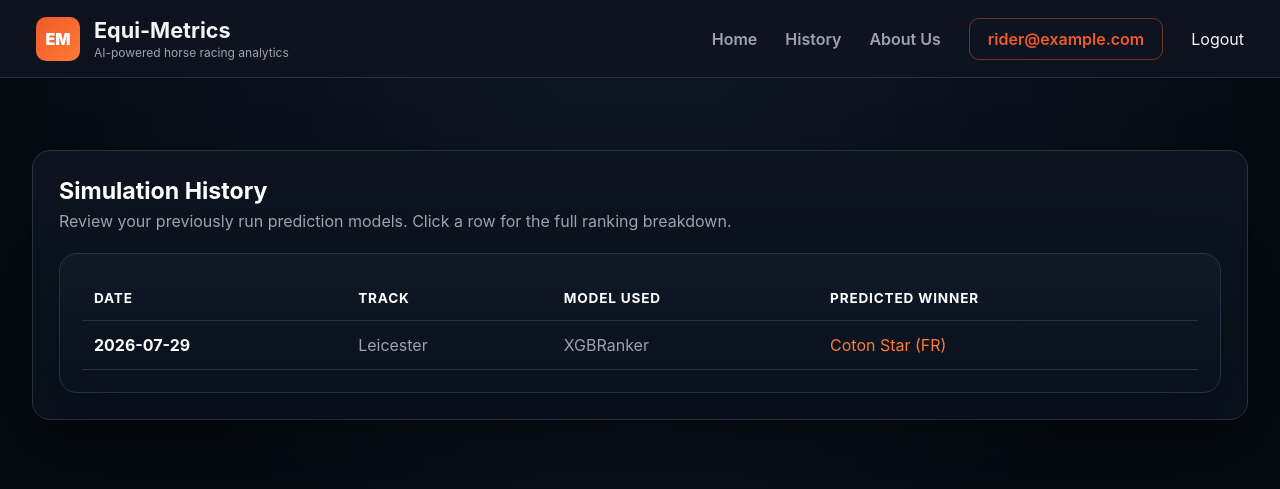
Scenario: History › shows an error message if the detail request fails
Click the text "Leicester": (449, 345) [346,320,552,370]
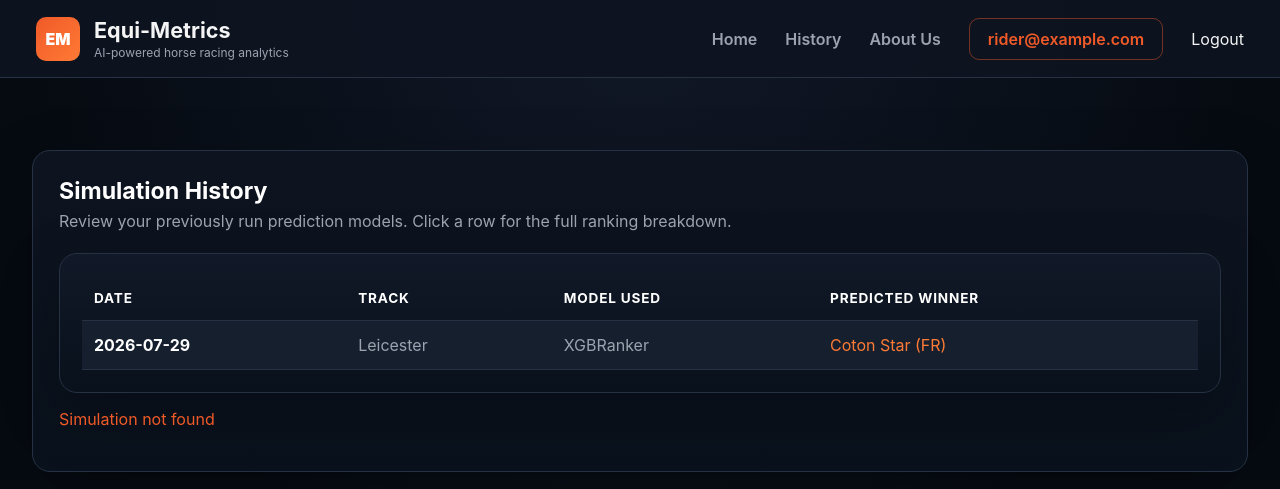
Check: the text "Simulation not found" is shown, box [59,409,215,429]
